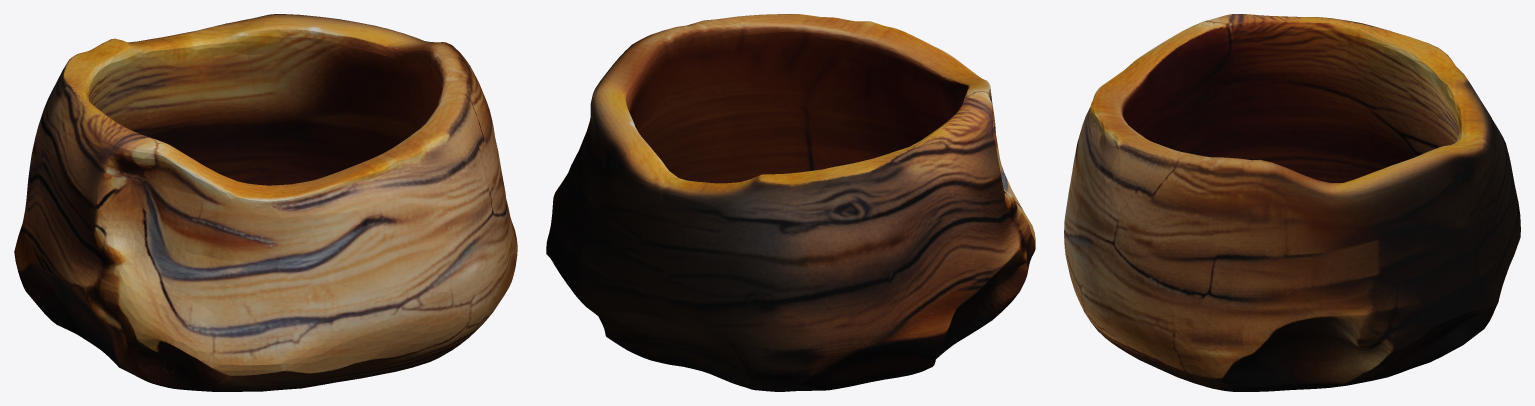
The model's file is wooden-napkin-ring-rustic.jpeg.glb.
3 views of the same model, side by side, from view 1: azimuth 30°, elevation 25°; view 2: azimuth 150°, elevation 25°; view 3: azimuth 270°, elevation 25° (orthographic). The views are drawn at different scales.
Parts seen in each view (by area): view 1: world; view 2: world; view 3: world.
Boxes of the visible parts, x1,y1,x2,y2 form: world: (14,14,517,391); world: (546,14,1035,391); world: (1064,14,1520,391).
Bounding box in the file's own units: 1 × 0.5538 × 0.9984.
Materials: 1 (1 with a texture image).
